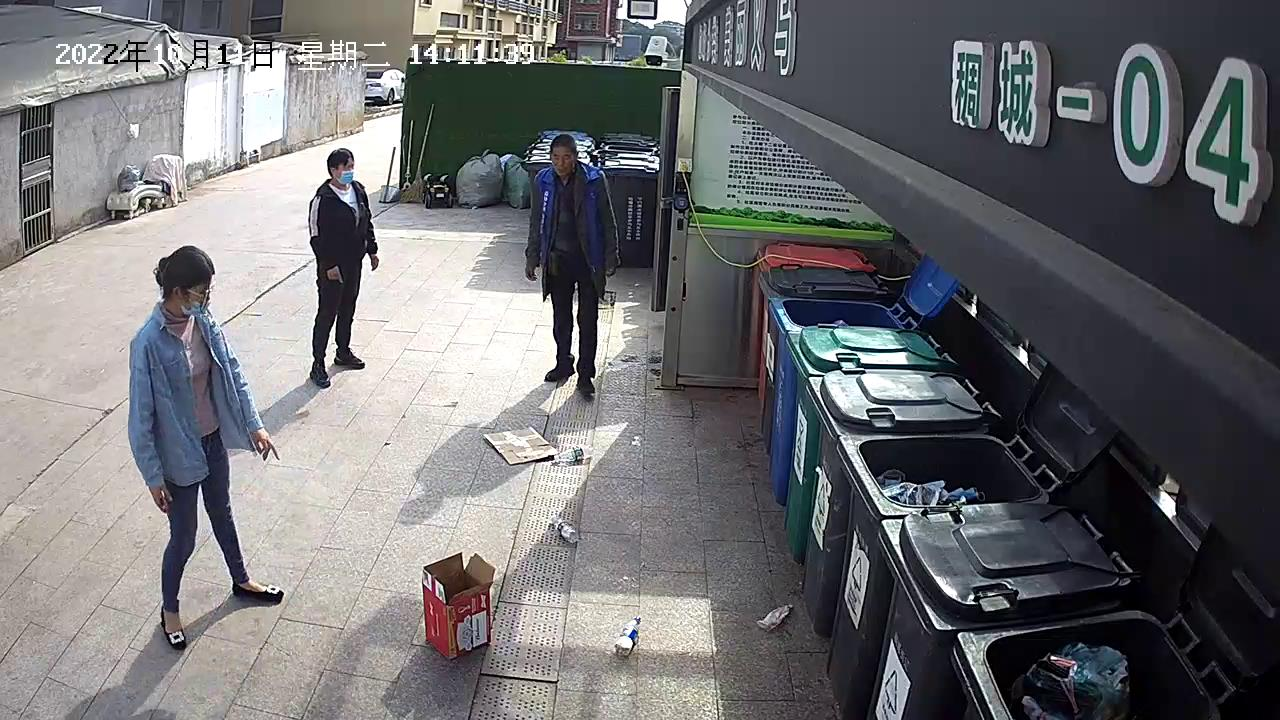person: (307, 146, 381, 388)
suliaozhipin: (612, 614, 646, 658), (546, 510, 584, 546), (754, 601, 796, 630), (553, 444, 596, 465)
worker: (123, 243, 287, 651), (522, 133, 623, 402)
zhizhipin: (420, 550, 498, 661), (481, 423, 558, 467)
